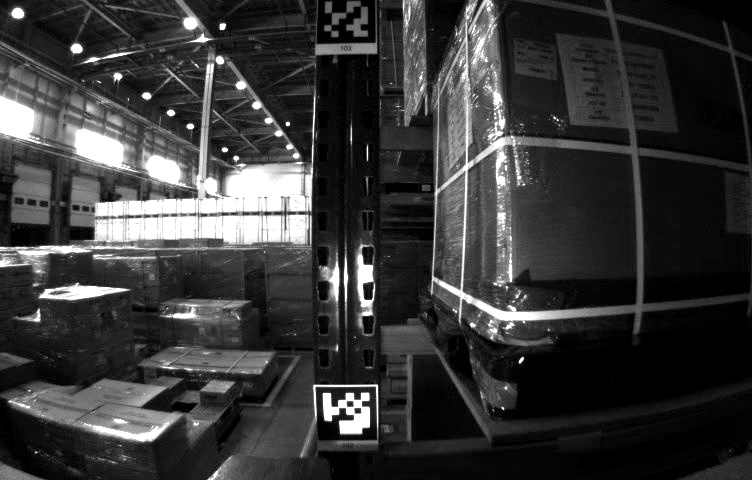True Barcode: (512, 33, 557, 85)
